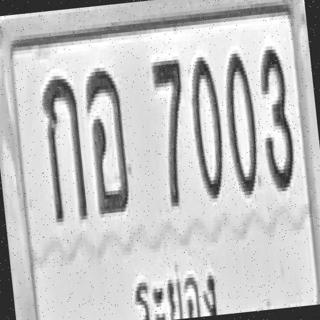A01: (38, 70, 88, 222)
A43: (81, 64, 132, 212)
N00: (185, 50, 228, 198), (220, 46, 262, 194)
N03: (254, 43, 297, 190)
N07: (149, 54, 194, 205)
P53: (130, 255, 224, 320)
